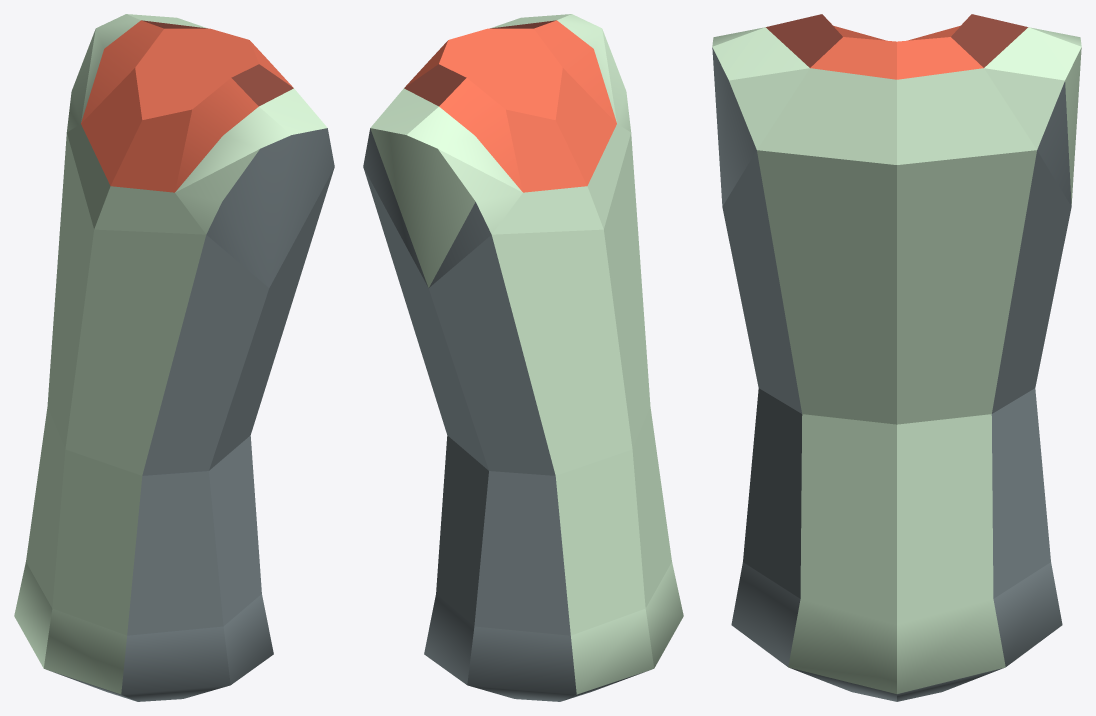
Rendered from torsovato.fbx.
3 renders of one model, left to right at view 1: azimuth 30°, elevation 25°; view 2: azimuth 150°, elevation 25°; view 3: azimuth 270°, elevation 25°, orthographic. The views are drawn at different scales.
Visible parts, largest first — view 1: torsovato; view 2: torsovato; view 3: torsovato.
Part boxes in pixels (x1,y1,x2,y2): torsovato: [14, 14, 334, 701]; torsovato: [363, 14, 683, 701]; torsovato: [712, 14, 1081, 701].
Size of the model in its own units: 25.55 by 61.41 by 29.74.
